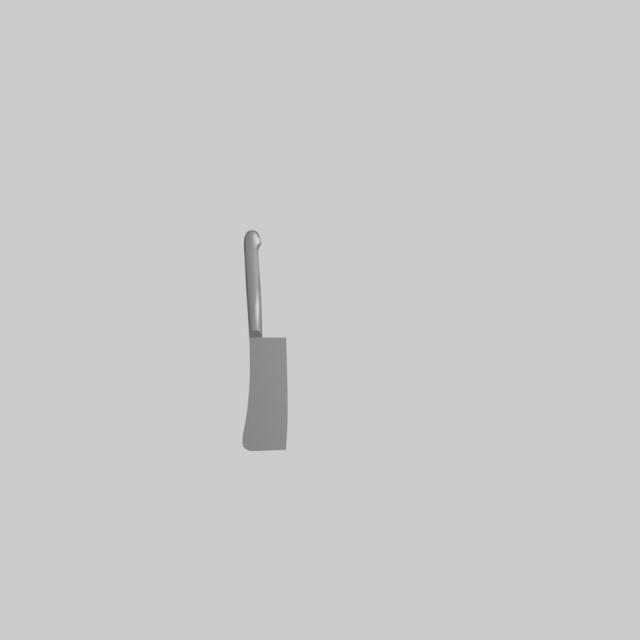knife: (244, 230, 263, 338)
